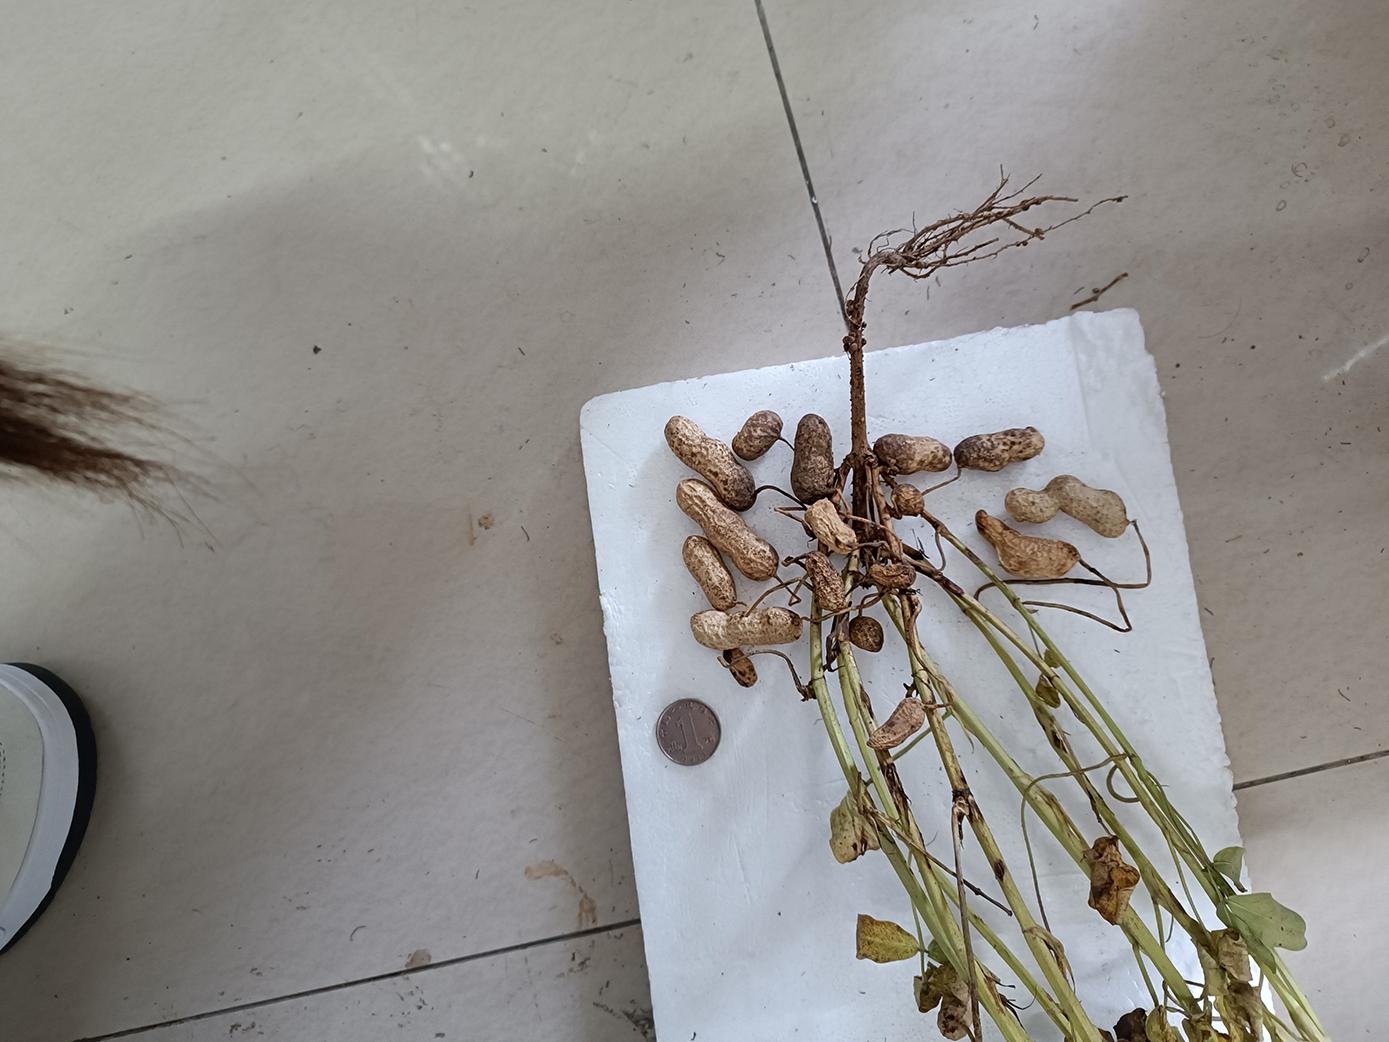h: (676, 481, 778, 581), (664, 415, 756, 512), (1004, 474, 1128, 539), (975, 510, 1080, 582), (953, 426, 1044, 472), (681, 535, 736, 610), (693, 609, 805, 644), (872, 435, 953, 475), (805, 498, 859, 556), (865, 698, 925, 750), (803, 552, 847, 614), (734, 412, 782, 461), (719, 649, 757, 688), (848, 616, 886, 652), (889, 483, 925, 516), (868, 566, 919, 589)
l: (791, 413, 845, 502)
